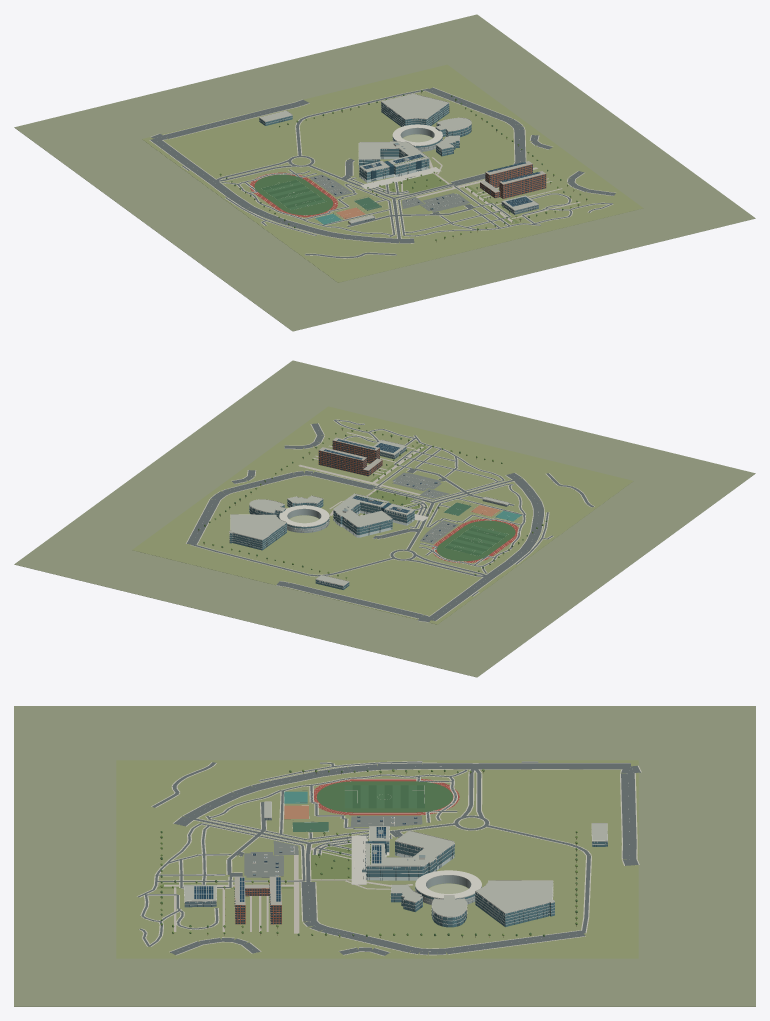
File: bitgaram-kentech.glb
3 views of the same model, one above another, from view 1: azimuth 30°, elevation 25°; view 2: azimuth 150°, elevation 25°; view 3: azimuth 270°, elevation 25° (orthographic). The views are drawn at different scales.
Visible parts, largest first — view 1: campus_batch_Museum_99a184, campus_batch_Museum_98a274, campus_batch_Museum_697373, campus_batch_Museum_cfcebf, campus_batch_Museum_b9bdb1, campus_batch_Museum_dddcd1, campus_batch_Museum_ad7057, campus_batch_Museum_345765, campus_batch_Museum_838b85, campus_batch_Museum_557c51, campus_batch_Museum_82945e, campus_batch_Museum_c8c4b8 (+5 smaller); view 2: campus_batch_Museum_99a184, campus_batch_Museum_98a274, campus_batch_Museum_697373, campus_batch_Museum_cfcebf, campus_batch_Museum_b9bdb1, campus_batch_Museum_dddcd1, campus_batch_Museum_ad7057, campus_batch_Museum_838b85, campus_batch_Museum_557c51, campus_batch_Museum_345765, campus_batch_Museum_c8c4b8, campus_upper_envelope_1201084332 (+4 smaller); view 3: campus_batch_Museum_99a184, campus_batch_Museum_98a274, campus_batch_Museum_697373, campus_batch_Museum_cfcebf, campus_batch_Museum_b9bdb1, campus_batch_Museum_dddcd1, campus_batch_Museum_557c51, campus_batch_Museum_838b85, campus_batch_Museum_c8c4b8, campus_batch_Museum_82945e, campus_upper_envelope_1201084332, campus_building_1460776854 (+11 smaller).
Boxes of the visible parts, bbox=[...] form: campus_batch_Museum_99a184: bbox=[14, 14, 755, 331]; campus_batch_Museum_98a274: bbox=[142, 64, 643, 282]; campus_batch_Museum_697373: bbox=[150, 87, 615, 257]; campus_batch_Museum_cfcebf: bbox=[149, 87, 615, 258]; campus_batch_Museum_b9bdb1: bbox=[260, 93, 537, 222]; campus_batch_Museum_dddcd1: bbox=[259, 93, 538, 224]; campus_batch_Museum_ad7057: bbox=[480, 164, 546, 198]; campus_batch_Museum_345765: bbox=[371, 160, 545, 198]; campus_batch_Museum_838b85: bbox=[309, 174, 469, 212]; campus_batch_Museum_557c51: bbox=[254, 174, 333, 215]; campus_batch_Museum_82945e: bbox=[379, 173, 519, 223]; campus_batch_Museum_c8c4b8: bbox=[377, 157, 580, 222]; campus_batch_Museum_99a184: bbox=[14, 360, 755, 677]; campus_batch_Museum_98a274: bbox=[132, 406, 633, 624]; campus_batch_Museum_697373: bbox=[186, 419, 593, 621]; campus_batch_Museum_cfcebf: bbox=[186, 419, 594, 622]; campus_batch_Museum_b9bdb1: bbox=[229, 440, 508, 585]; campus_batch_Museum_dddcd1: bbox=[229, 439, 509, 588]; campus_batch_Museum_ad7057: bbox=[318, 440, 382, 476]; campus_batch_Museum_838b85: bbox=[392, 472, 458, 543]; campus_batch_Museum_557c51: bbox=[436, 520, 515, 561]; campus_batch_Museum_345765: bbox=[319, 441, 391, 511]; campus_batch_Museum_c8c4b8: bbox=[298, 432, 429, 515]; campus_upper_envelope_1201084332: bbox=[333, 502, 392, 534]; campus_batch_Museum_99a184: bbox=[14, 706, 755, 1006]; campus_batch_Museum_98a274: bbox=[116, 760, 638, 958]; campus_batch_Museum_697373: bbox=[138, 761, 640, 955]; campus_batch_Museum_cfcebf: bbox=[137, 761, 641, 955]; campus_batch_Museum_b9bdb1: bbox=[184, 802, 607, 917]; campus_batch_Museum_dddcd1: bbox=[183, 801, 607, 924]; campus_batch_Museum_557c51: bbox=[317, 781, 452, 812]; campus_batch_Museum_838b85: bbox=[244, 816, 422, 877]; campus_batch_Museum_c8c4b8: bbox=[164, 842, 390, 933]; campus_batch_Museum_82945e: bbox=[157, 842, 351, 888]; campus_upper_envelope_1201084332: bbox=[366, 842, 454, 876]; campus_building_1460776854: bbox=[475, 892, 554, 926].
Size of the model in its own units: 940 by 29.6 by 980.
